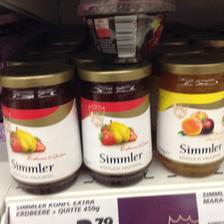Marmelade: (2, 62, 82, 194), (76, 61, 154, 188), (154, 51, 222, 176), (77, 0, 173, 62)
